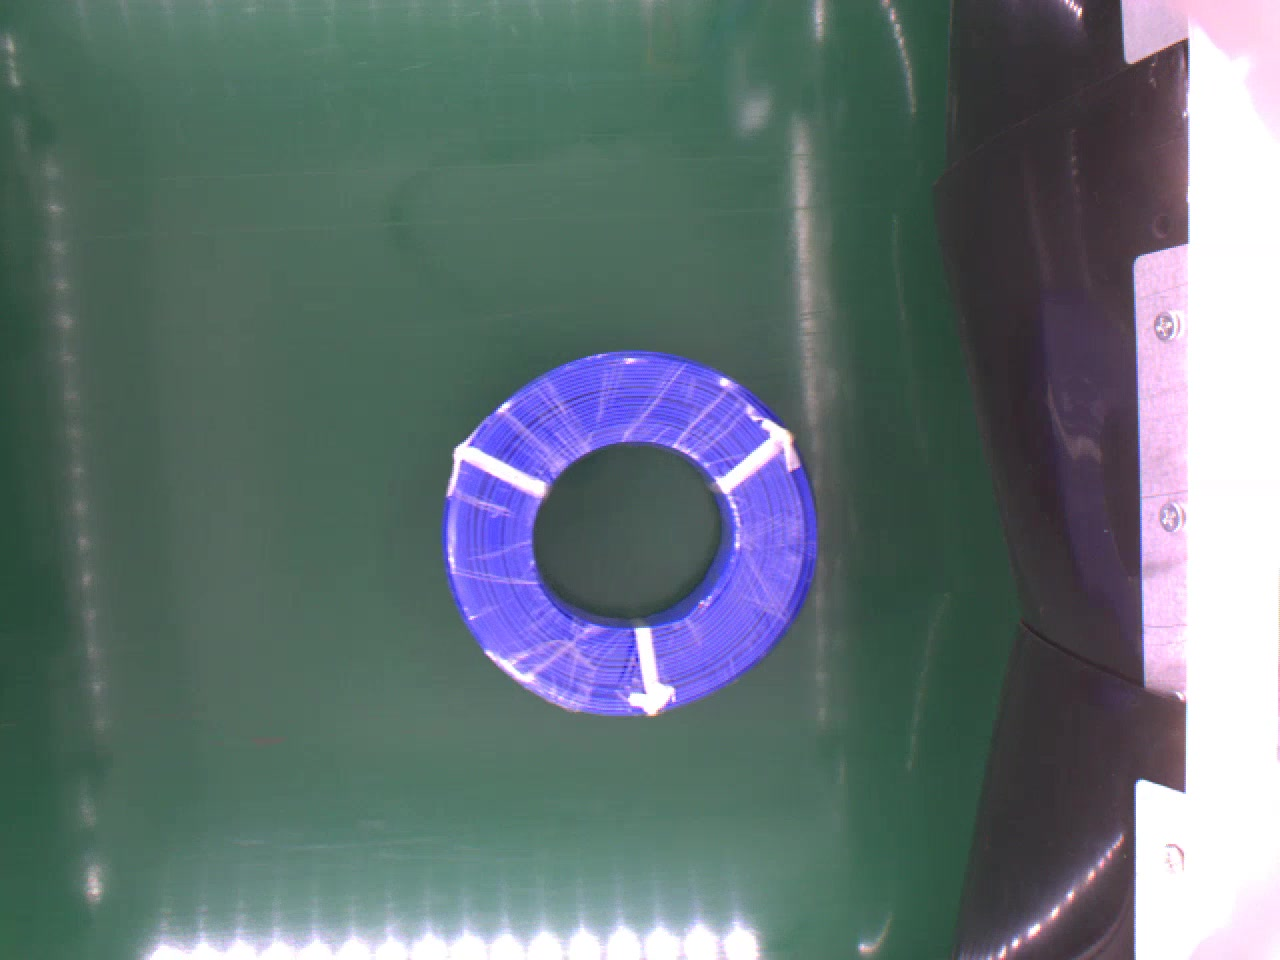blue: (438, 348, 822, 716)
